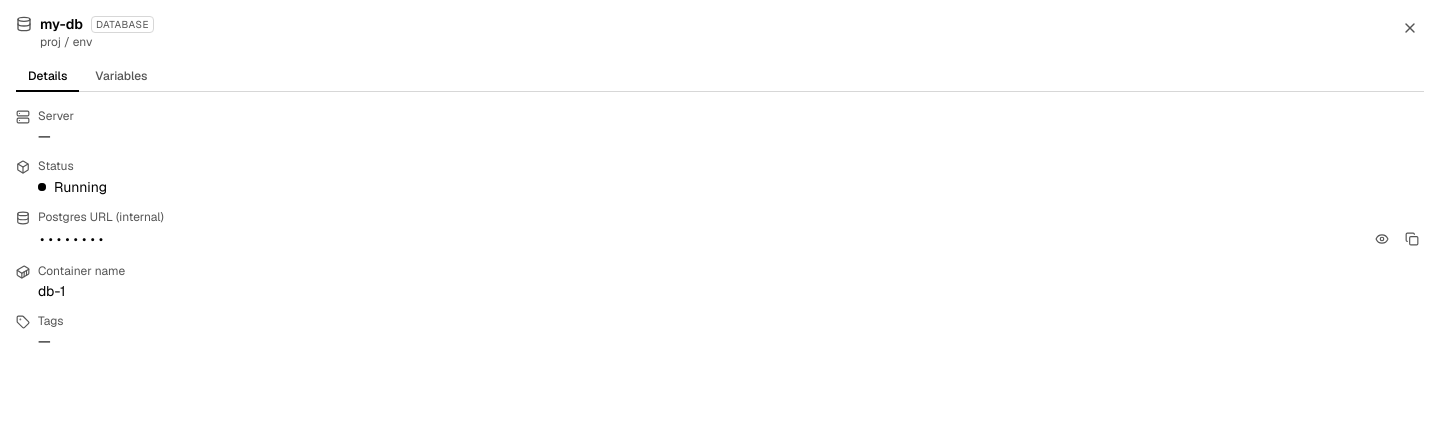
Scenario: DatabaseCopyMenu gating in the resource drawer › revealing the value with the eye toggles the mask and closes the open menu
Click the button named "copy connection url" at (1412, 239), box [1400, 227, 1424, 251]
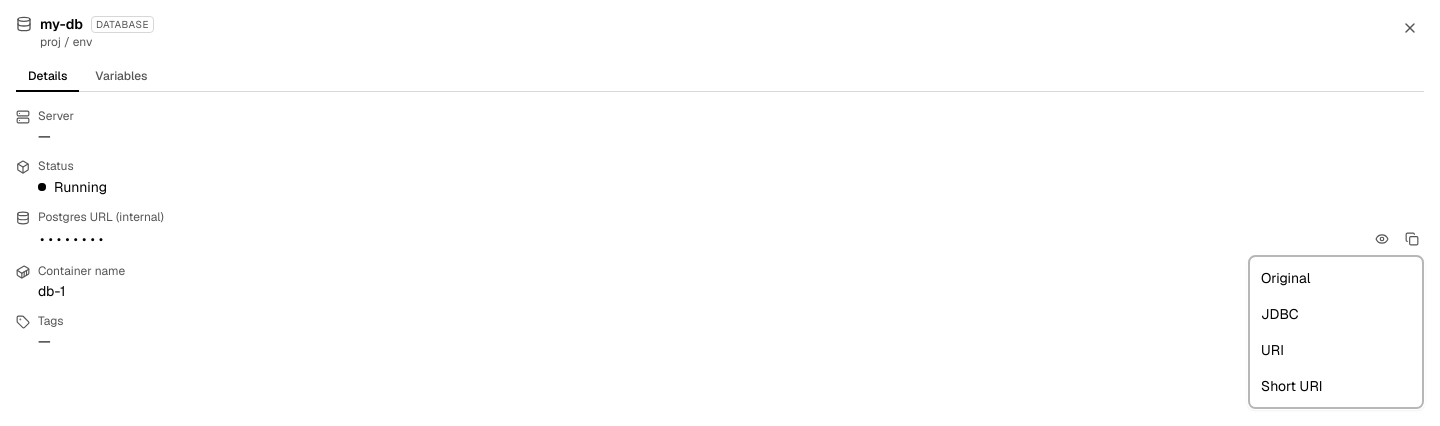
Expected: the menu item "JDBC" is shown, [1249, 296, 1423, 332]
Press the mouse on the button named "Reveal value" at (1382, 239), box [1370, 227, 1394, 251]
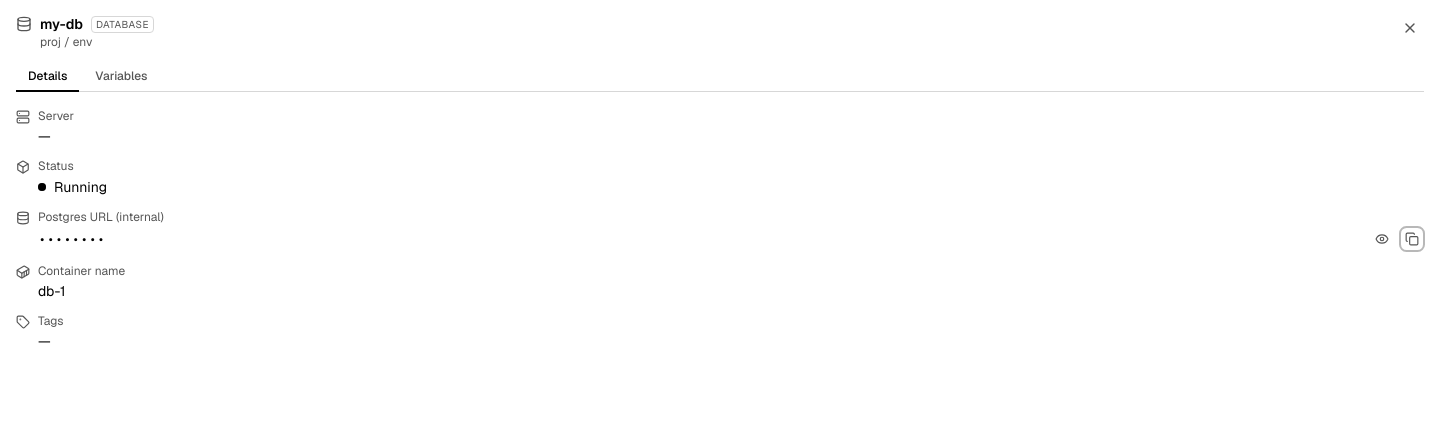
Click the button named "Reveal value" at (1382, 239), box [1370, 227, 1394, 251]
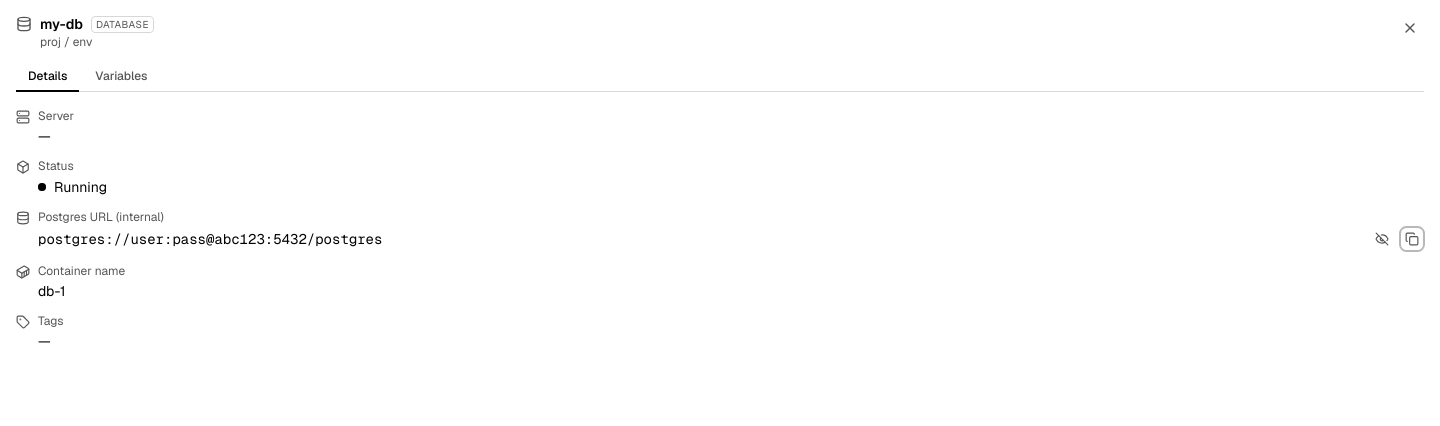
Expected: the text "••••••••" is gone
Expected: the text "postgres://user:pass@abc123:5432/postgres" is shown, [38, 230, 382, 248]
Expected: the button named "Hide value" is shown, [1370, 227, 1394, 251]
